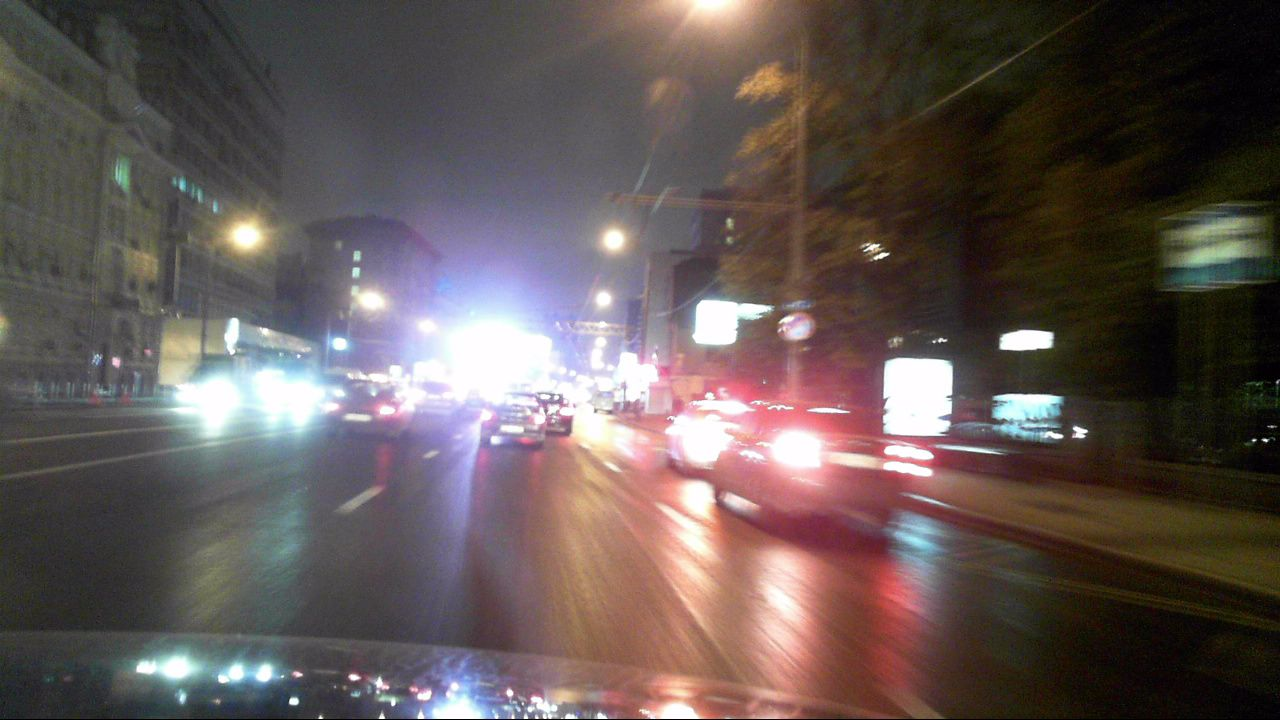No Parking: (780, 311, 814, 342)
